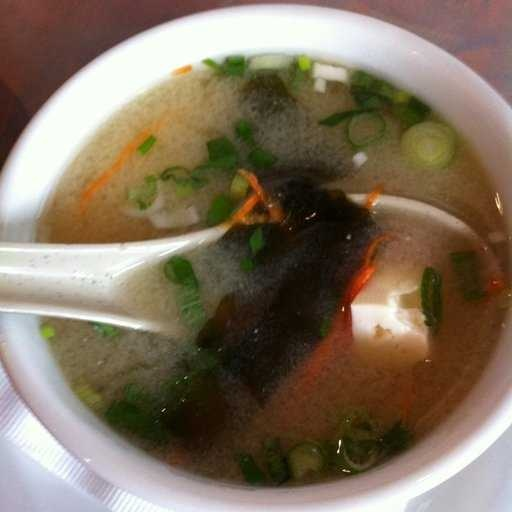soup: (21, 94, 484, 474)
